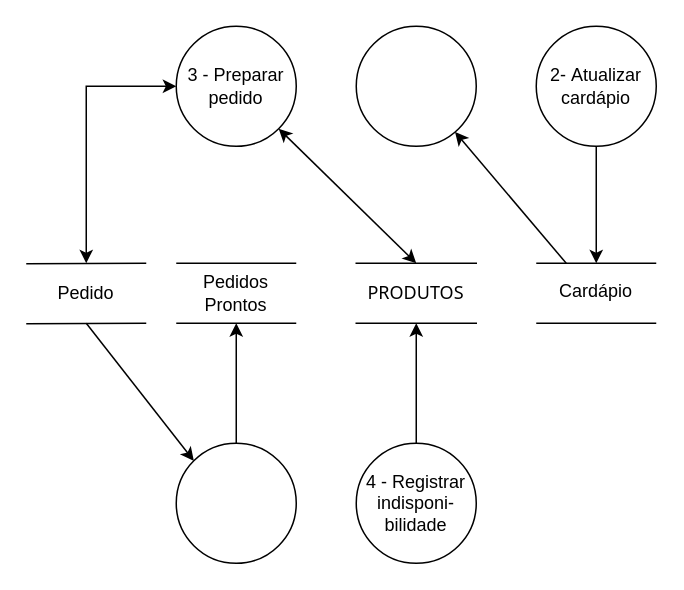
This 684x590 diagram has some shape labels left out. Here are the shapes that lost their labels. From the top down, the centre of each, then its label:
point 415,85: 1 - Consultar pratos diários
point 235,502: 5 - Informar status do pedido
